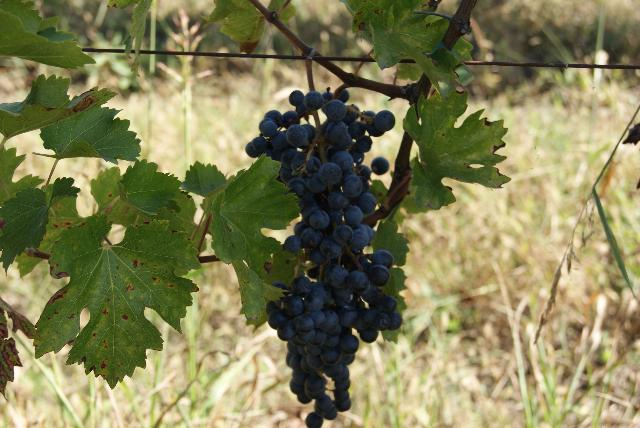grapes: (266, 210, 400, 428), (245, 91, 395, 230)
